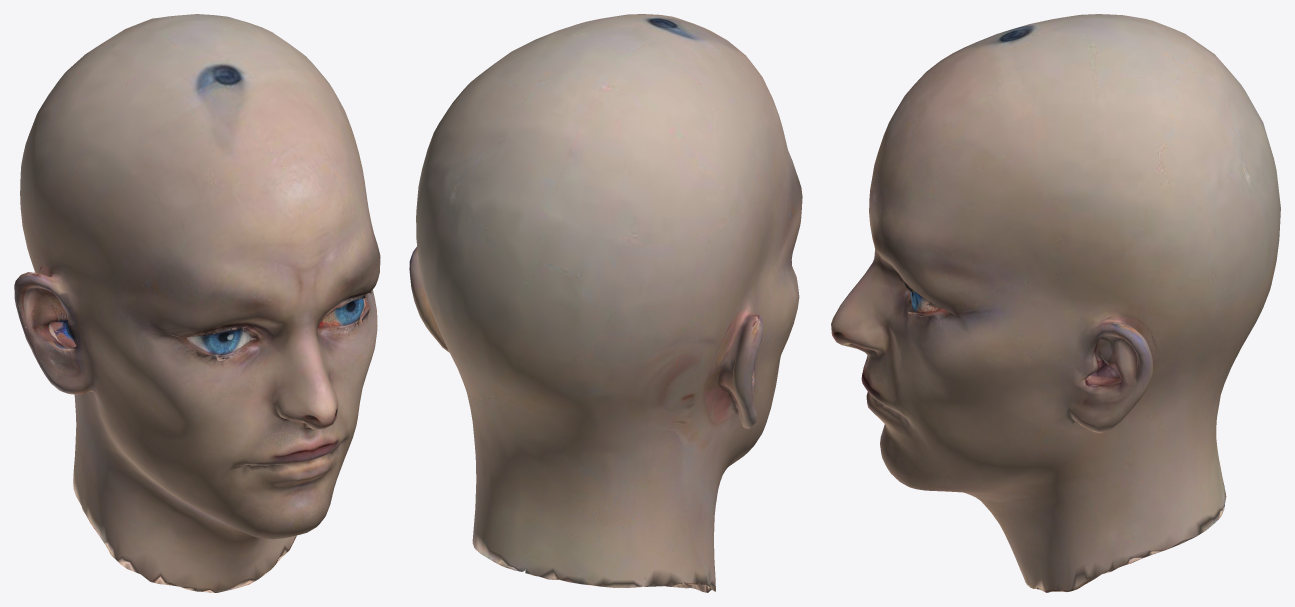
File: faceEye.glb
The picture shows the model from 3 angles, left to right: view 1: azimuth 30°, elevation 25°; view 2: azimuth 150°, elevation 25°; view 3: azimuth 270°, elevation 25°; orthographic projection. The views are drawn at different scales.
Visible parts, largest first — view 1: Mesh_0; view 2: Mesh_0; view 3: Mesh_0.
Part boxes in pixels (bbox=[...]): Mesh_0: bbox=[14, 14, 380, 592]; Mesh_0: bbox=[409, 14, 802, 592]; Mesh_0: bbox=[831, 14, 1280, 592].
Bounding box in the file's own units: 1.28 × 2 × 1.5.
Materials: 1 (1 with a texture image).
